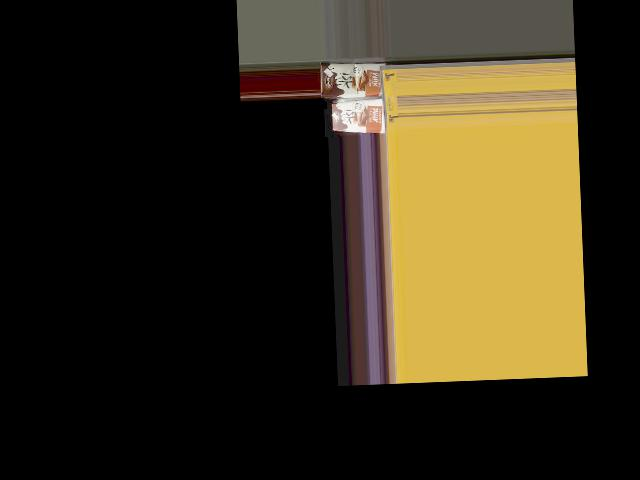chocolate: (329, 98, 391, 138)
